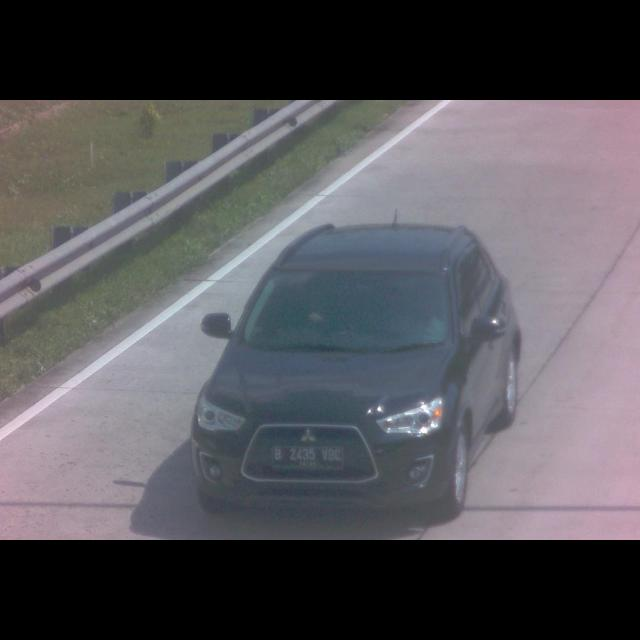plate: (267, 444, 343, 470)
